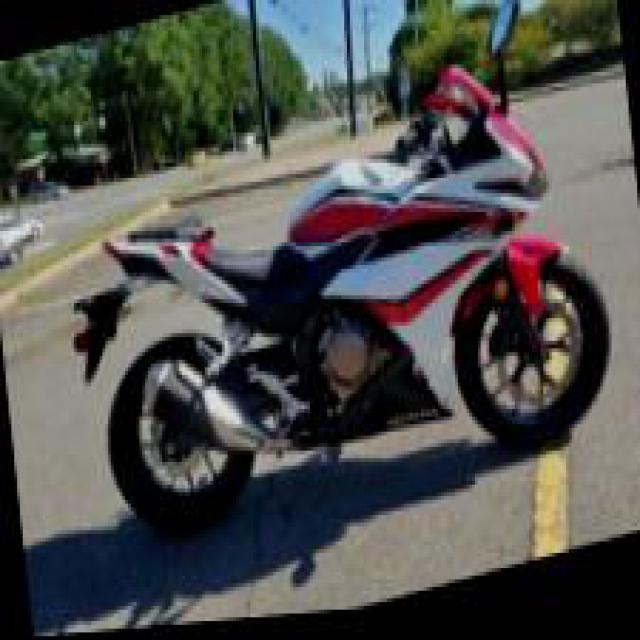CBR500R: (71, 32, 620, 566)
